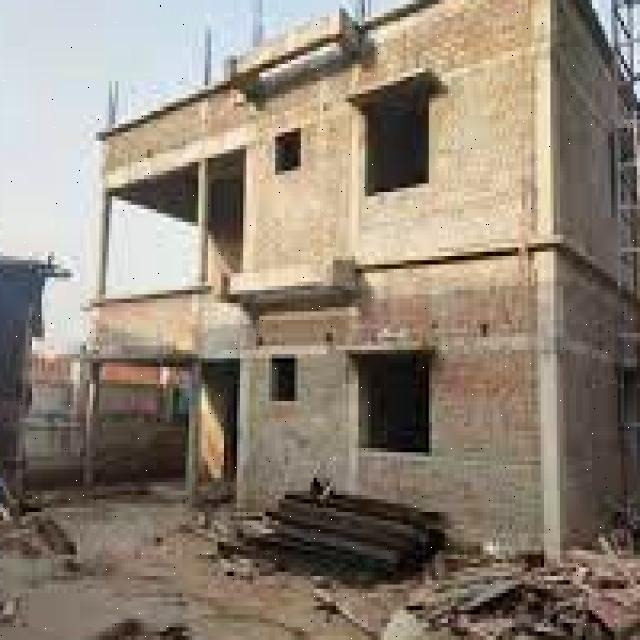Exterior Finishing: (115, 132, 640, 572)
Framing: (614, 0, 640, 563)
